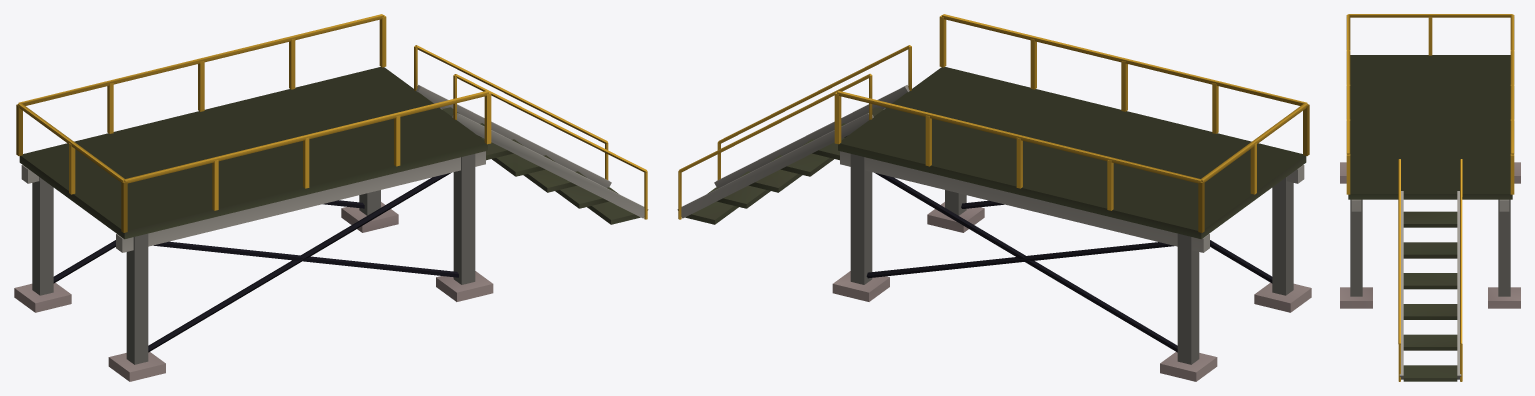
File: kit.dispersal-platform.lod2.glb
3 views of the same model, side by side, from view 1: azimuth 30°, elevation 25°; view 2: azimuth 150°, elevation 25°; view 3: azimuth 270°, elevation 25° (orthographic). The views are drawn at different scales.
Parts seen in each view (by area): view 1: body; view 2: body; view 3: body.
Part boxes in pixels (x1,y1,x2,y2): body: (14,14,648,381); body: (677,14,1311,381); body: (1340,14,1520,381).
Bounding box in the file's own units: 12.3 × 4.17 × 4.4.
